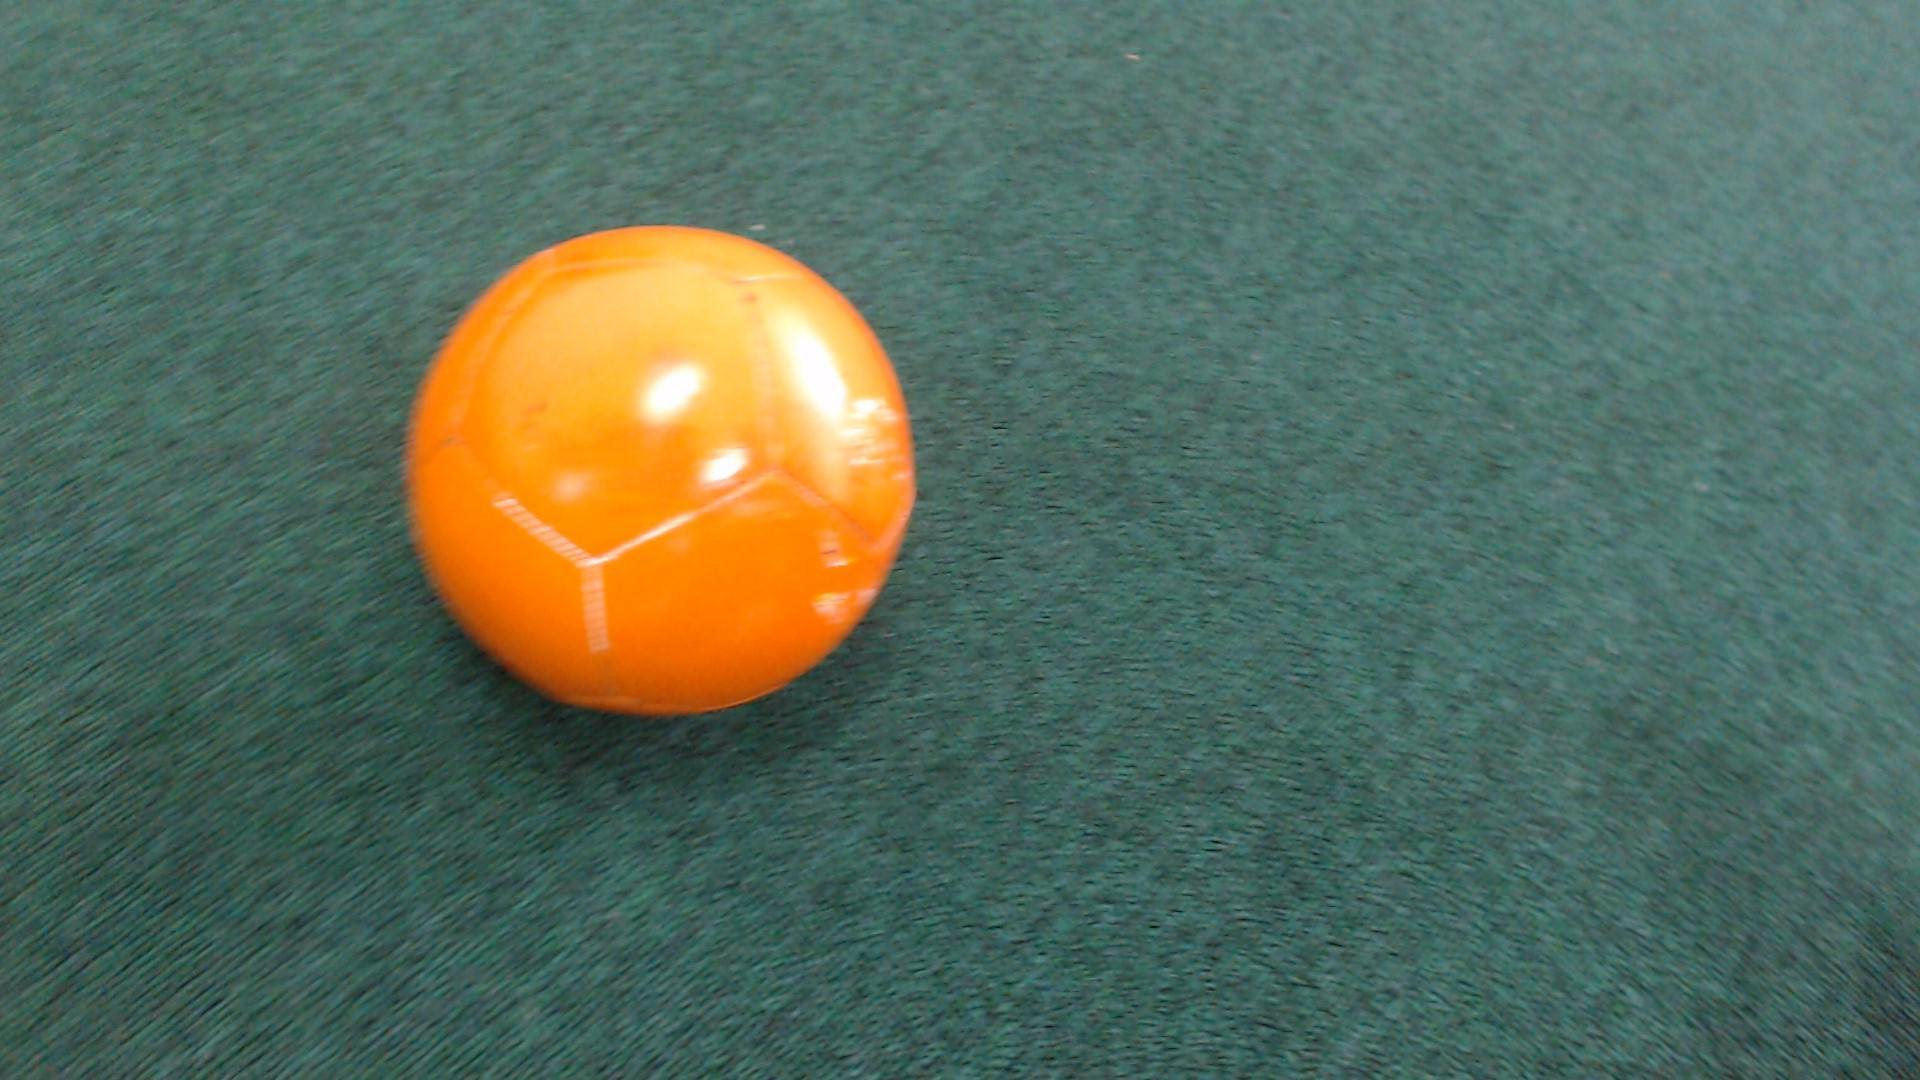bola: (375, 186, 1007, 764)
